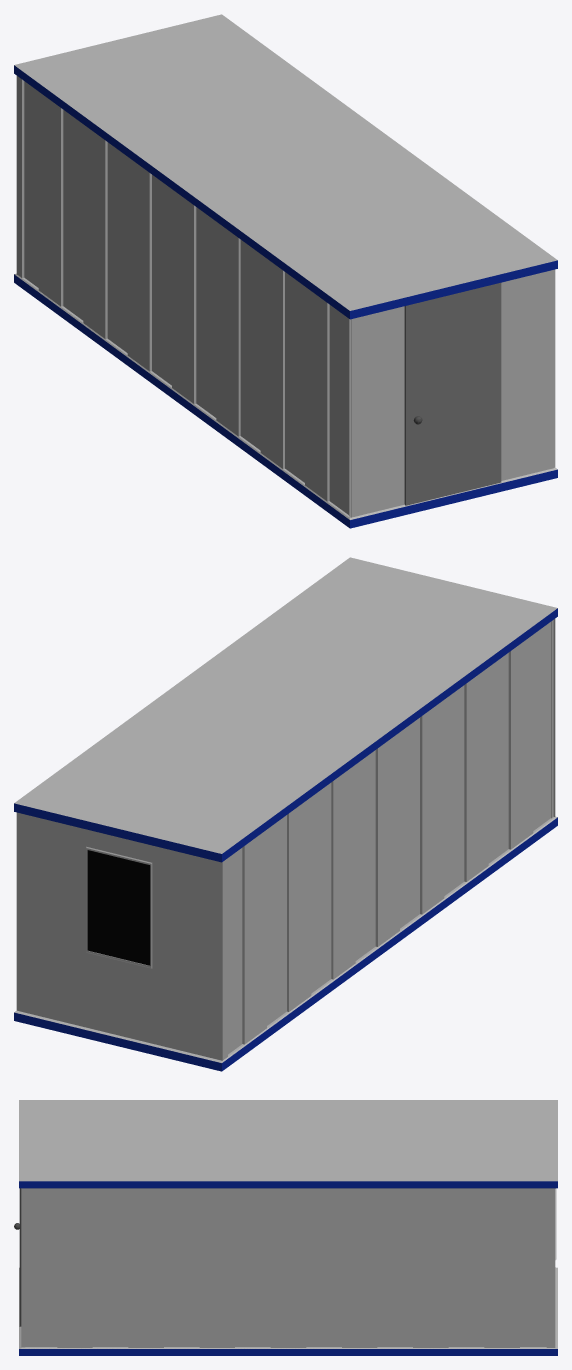
File: Construction Site Camp.fbx
3 renders of one model, top to bottom at view 1: azimuth 30°, elevation 25°; view 2: azimuth 150°, elevation 25°; view 3: azimuth 270°, elevation 25°, orthographic. The views are drawn at different scales.
Visible parts, largest first — view 1: Cube, Door; view 2: Cube, Plane; view 3: Cube, Door.
Boxes of the visible parts, left/top/right/bottom form: Cube: left=14, top=14, right=557, bottom=528; Door: left=404, top=282, right=501, bottom=505; Cube: left=14, top=557, right=557, bottom=1071; Plane: left=86, top=846, right=152, bottom=968; Cube: left=19, top=1100, right=557, bottom=1355; Door: left=14, top=1188, right=21, bottom=1326.
Size of the model in its own units: 250 by 250 by 707.
